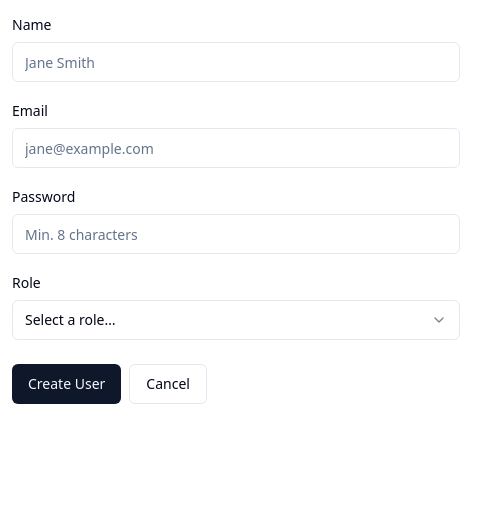
Test case: UserForm › create mode › clears a field error when the user starts typing in that field
Trigger validation
Click the button "Create User" at (67, 384), box x1=12 y1=364 x2=121 y2=404
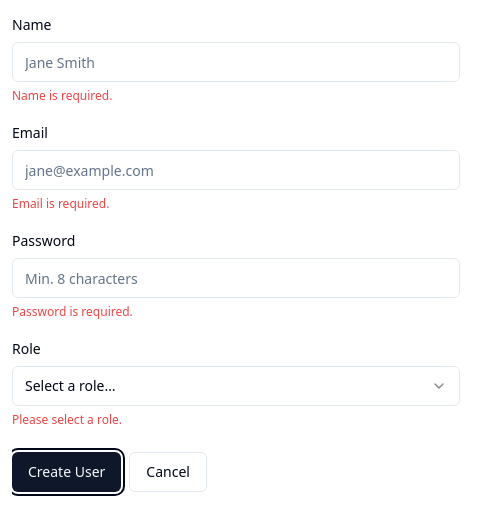
Now the text "Name is required." is shown, box x1=12 y1=87 x2=112 y2=104
Typing in name should clear the name error
Type "A" into the field labelled "Name" at (236, 62), box x1=12 y1=42 x2=460 y2=82
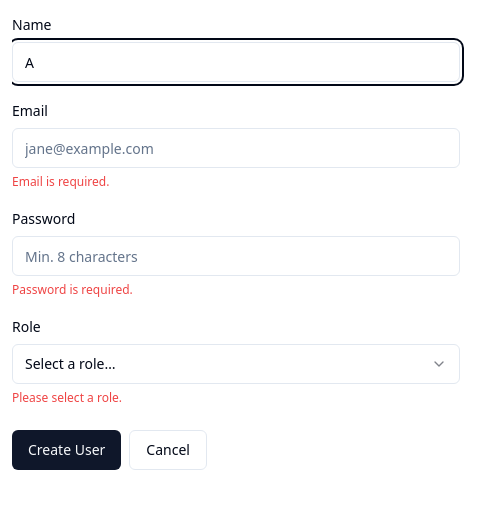
Now the text "Name is required" is gone
